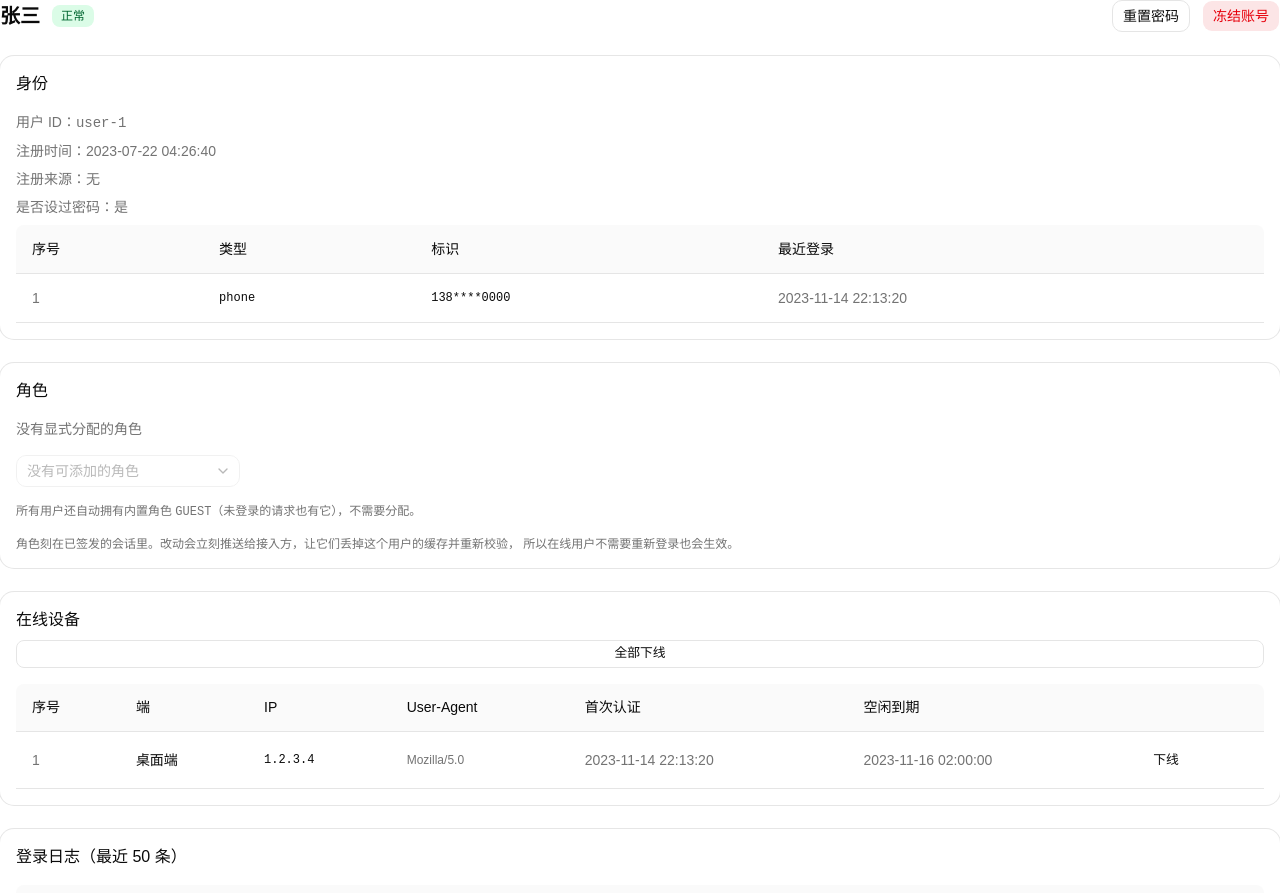
Test: 冻结账号成功后，在线设备列表被重新拉取
This screenshot has width=1280, height=893.
Expected: the heading "张三" is shown, [0,2,40,30]
Click the button "冻结账号": (1241, 16) [1202,0,1279,32]
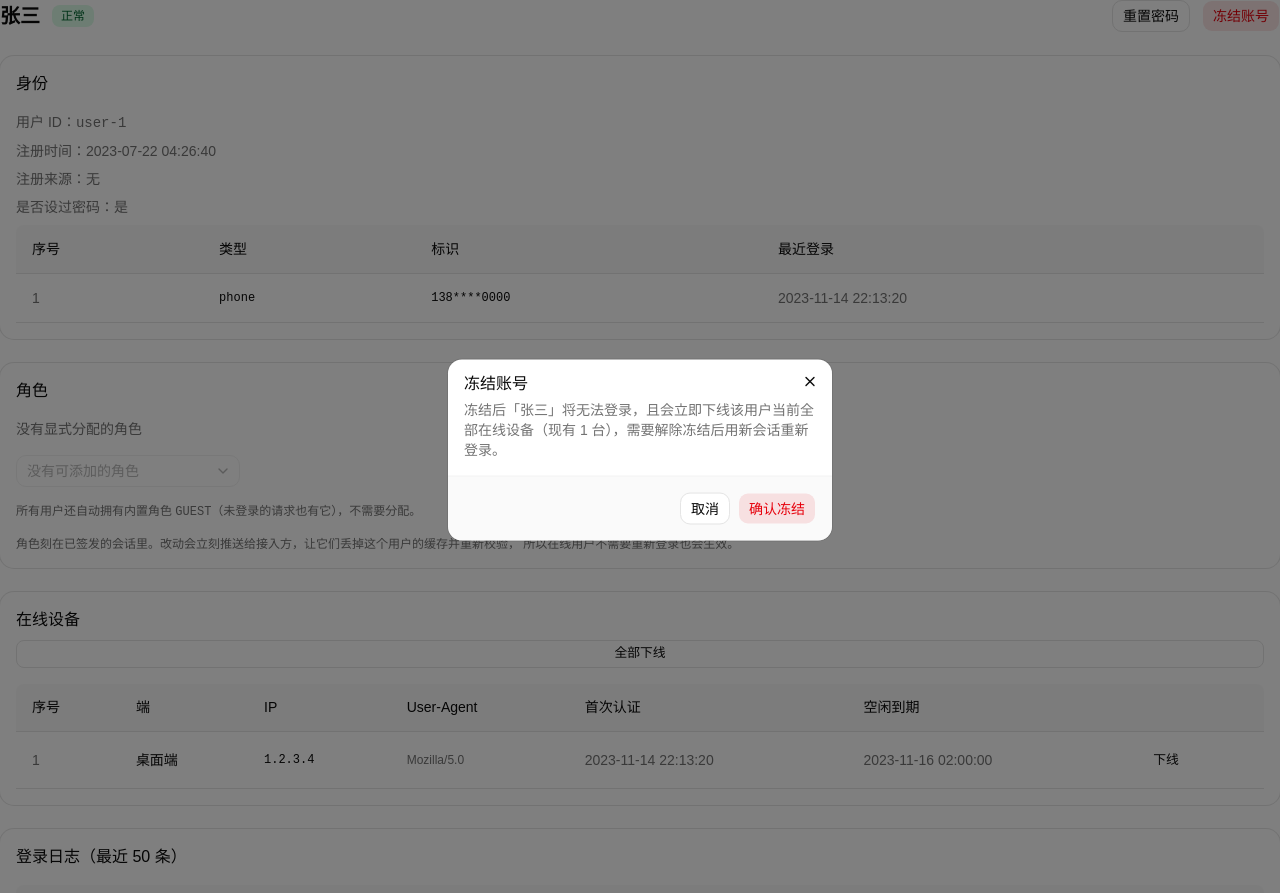
Click the button "确认冻结": (777, 508) [738,492,816,524]
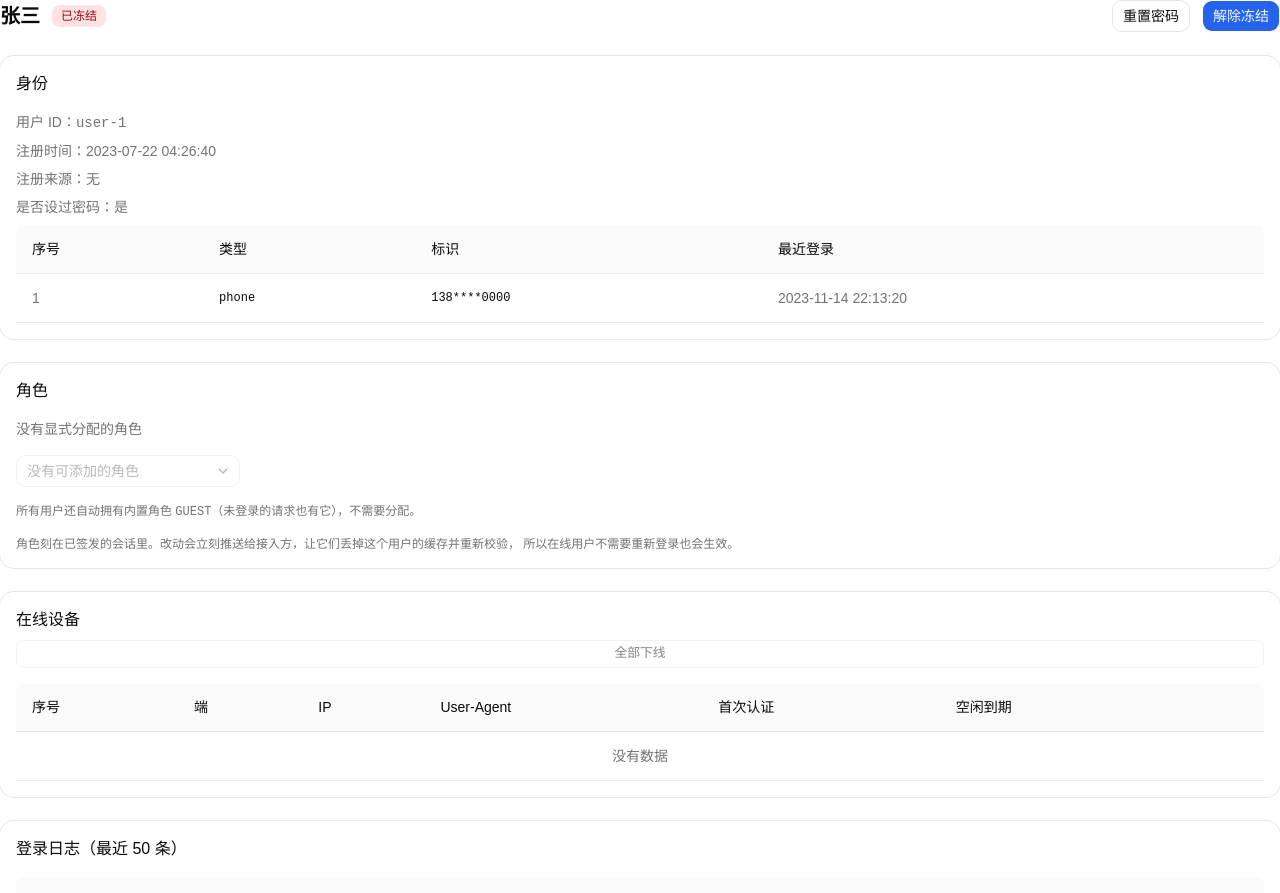
Now the button "解除冻结" is shown, box [1202,0,1279,32]
